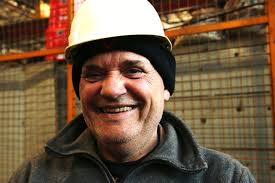Person_wearing_helmet: (59, 0, 182, 85)
